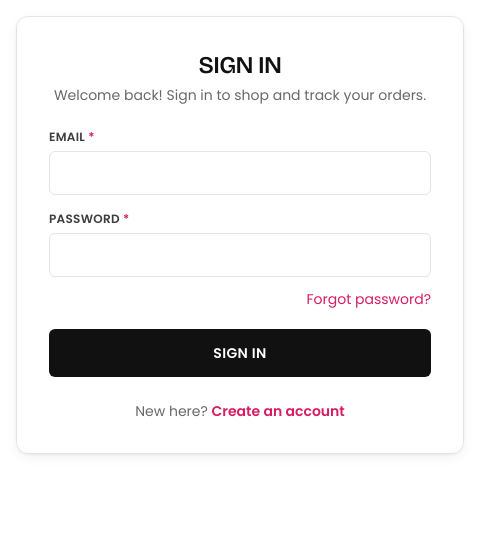
Test: LoginPage › shows the server error when sign-in fails
Type "asha@example.com" into the field labelled "Email *" at x=240, y=173, box left=49, top=151, right=431, bottom=195
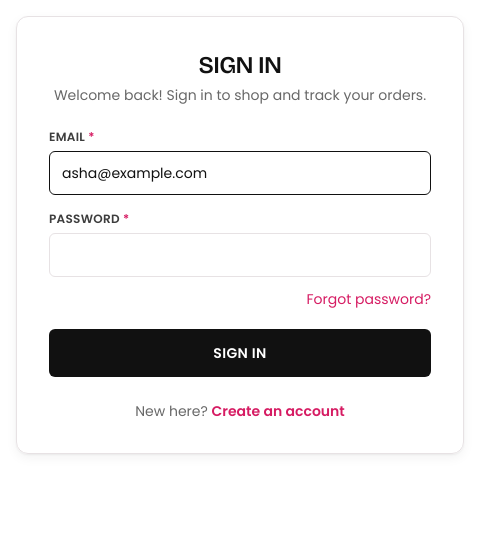
Type "wrong" into the password field labelled "Password *" at x=240, y=255, box left=49, top=233, right=431, bottom=277
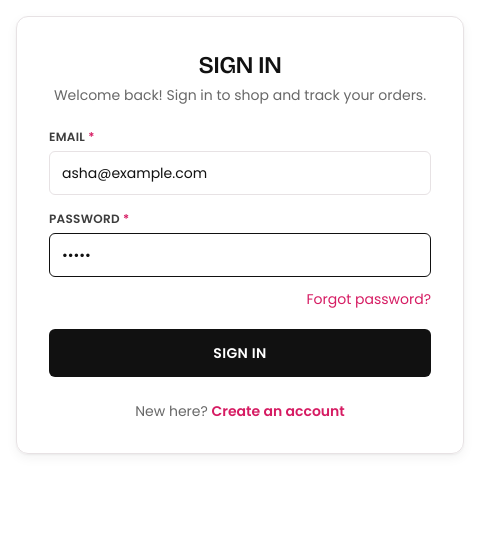
Click the button "Sign in" at x=240, y=353, box left=49, top=329, right=431, bottom=377
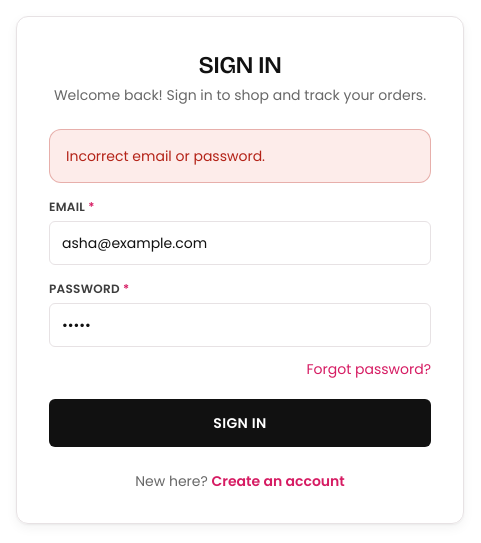
Expected: the message reads "Incorrect email or password.", left=66, top=146, right=265, bottom=166
